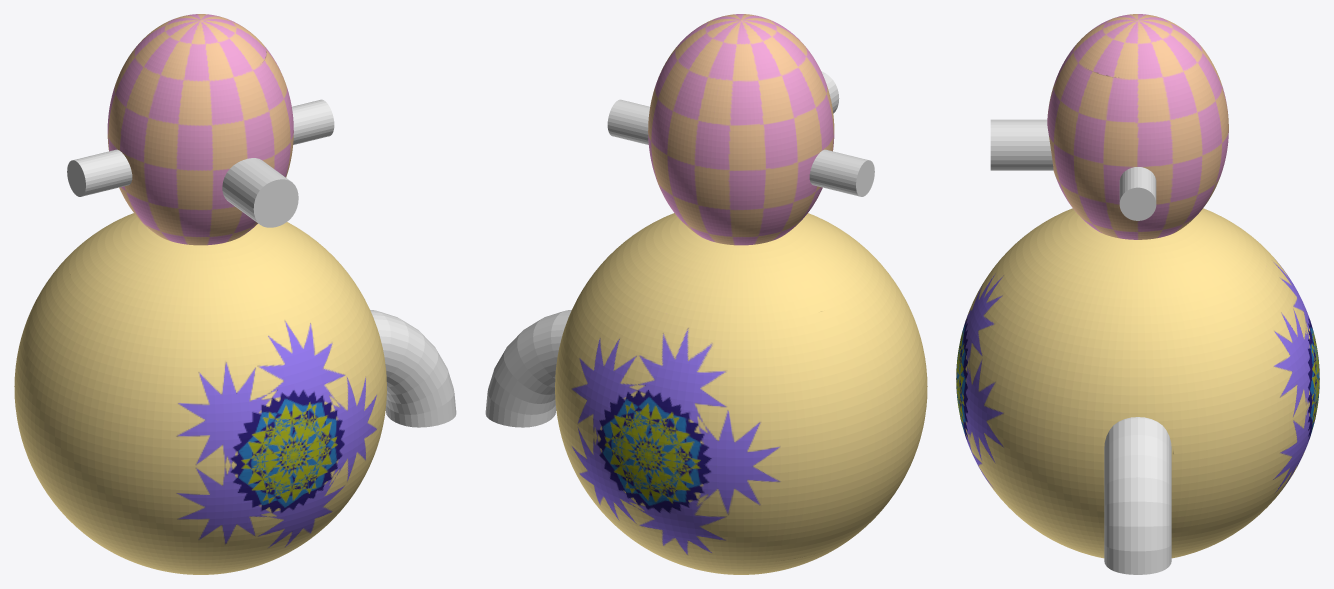
Rendered from BOD0_BMC13_BCC13_BPT1_FRC21_HEA2_HMC17_HCC12_HPT4_ELT1_ERT1_ELL0_ERL2_AP2_AAL2_AAR1_BEK1.fbx.
The picture shows the model from 3 angles, left to right: view 1: azimuth 30°, elevation 25°; view 2: azimuth 150°, elevation 25°; view 3: azimuth 270°, elevation 25°; orthographic projection. The views are drawn at different scales.
Parts seen in each view (by area): view 1: Body, Arm, Beak, Ear, Ear.001; view 2: Body, Arm, Ear, Ear.001; view 3: Body, Arm, Beak, Ear.001.
Boxes of the visible parts, box(x1,y1,x2,y2) form: Body: box(14, 14, 386, 574); Arm: box(370, 310, 456, 427); Beak: box(222, 158, 298, 227); Ear: box(67, 149, 132, 196); Ear.001: box(292, 99, 334, 144); Body: box(555, 14, 927, 574); Arm: box(485, 310, 571, 427); Ear: box(809, 149, 874, 196); Ear.001: box(607, 99, 649, 144); Body: box(956, 14, 1319, 558); Arm: box(1104, 417, 1171, 574); Beak: box(990, 119, 1053, 170); Ear.001: box(1119, 167, 1156, 220).
Bounding box in the file's own units: 62.99 × 78.65 × 49.36.
Materials: 1 (1 with a texture image).
